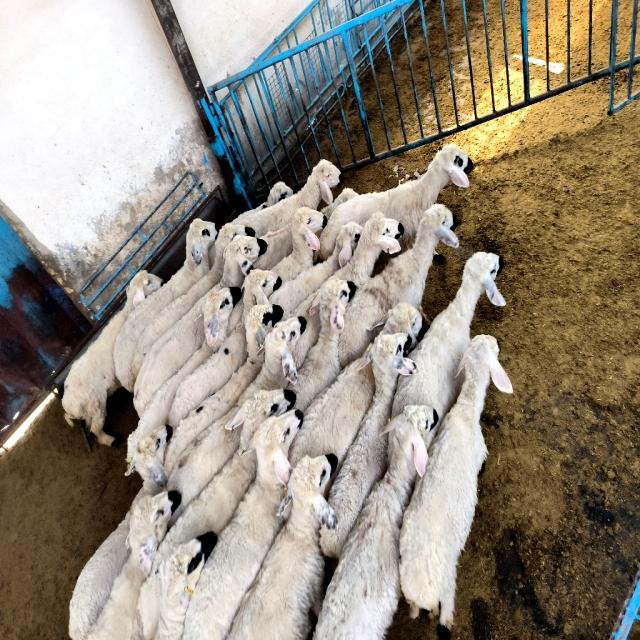sheep: (139, 390, 296, 638), (400, 335, 512, 628), (183, 410, 302, 638), (315, 405, 431, 638), (69, 425, 172, 639), (320, 333, 416, 558), (164, 303, 284, 472), (229, 453, 338, 638), (339, 205, 459, 368), (128, 288, 242, 459), (392, 252, 505, 421), (130, 225, 250, 380), (114, 218, 218, 389), (318, 145, 471, 260), (318, 145, 470, 260), (62, 270, 161, 446), (89, 492, 180, 638), (289, 355, 375, 466), (289, 278, 356, 412), (269, 222, 362, 318), (168, 405, 240, 522), (234, 160, 341, 237), (134, 300, 204, 415), (169, 323, 246, 426), (155, 532, 218, 639), (240, 318, 306, 402), (332, 212, 404, 287), (271, 207, 326, 282), (220, 235, 268, 288), (242, 270, 281, 319), (381, 303, 421, 346)
